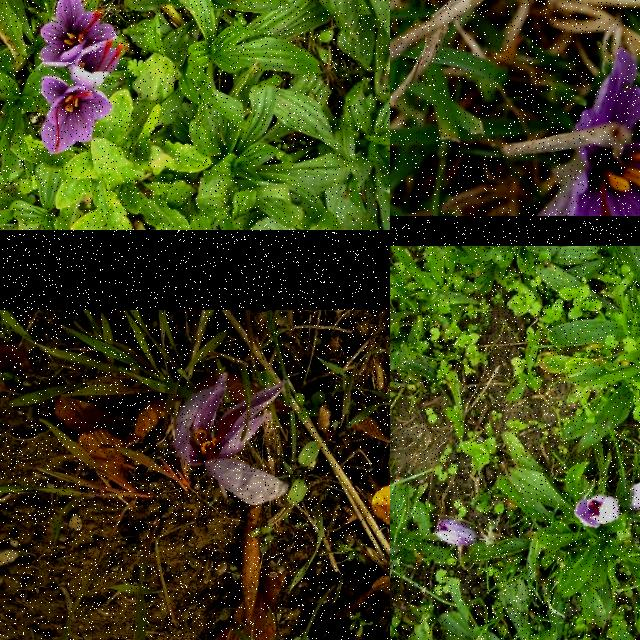flower: (174, 372, 286, 506), (570, 47, 640, 216), (41, 76, 110, 156), (574, 496, 620, 530), (436, 519, 476, 547), (632, 482, 640, 512)
overlap: (40, 0, 123, 91)
